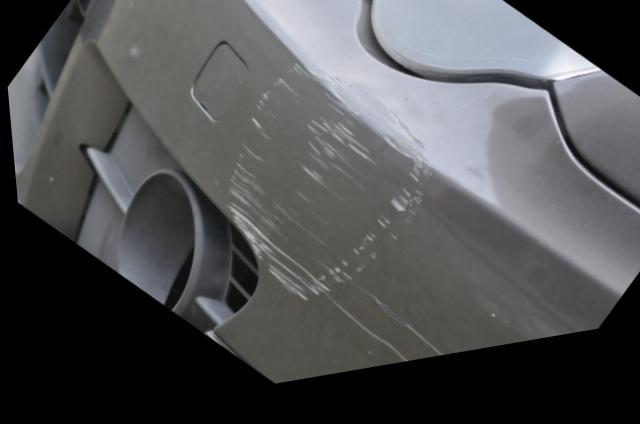scratch: (225, 69, 445, 376)
